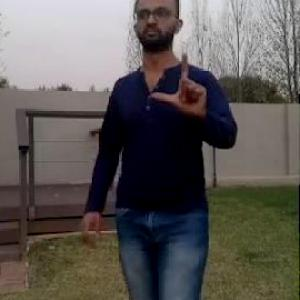land_hand: (151, 47, 210, 119)
